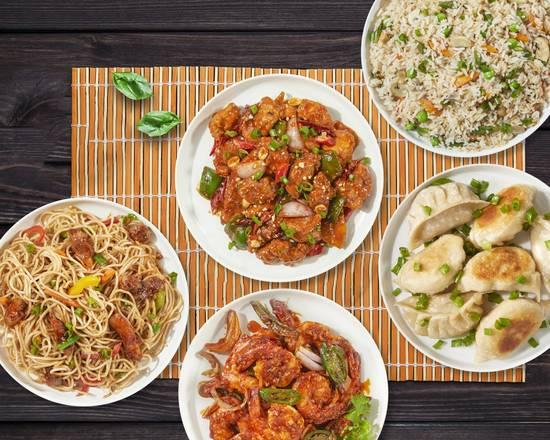Braised Crucian Carp: (174, 74, 382, 279), (0, 196, 190, 408), (378, 164, 549, 373), (176, 288, 388, 437), (359, 1, 546, 159)
